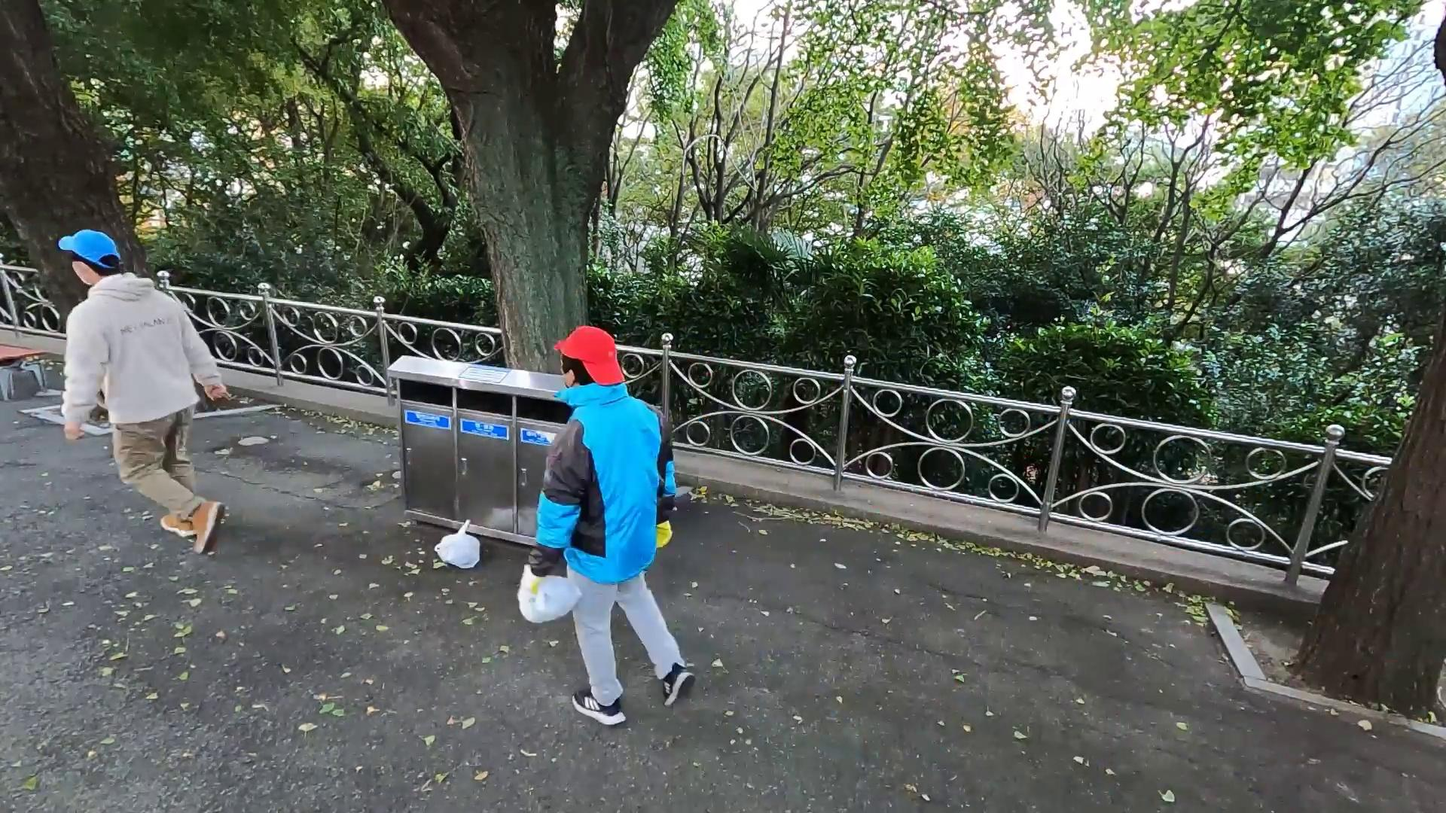person: (521, 319, 706, 746), (39, 228, 246, 563)
trash: (517, 554, 581, 627), (428, 516, 481, 577)
